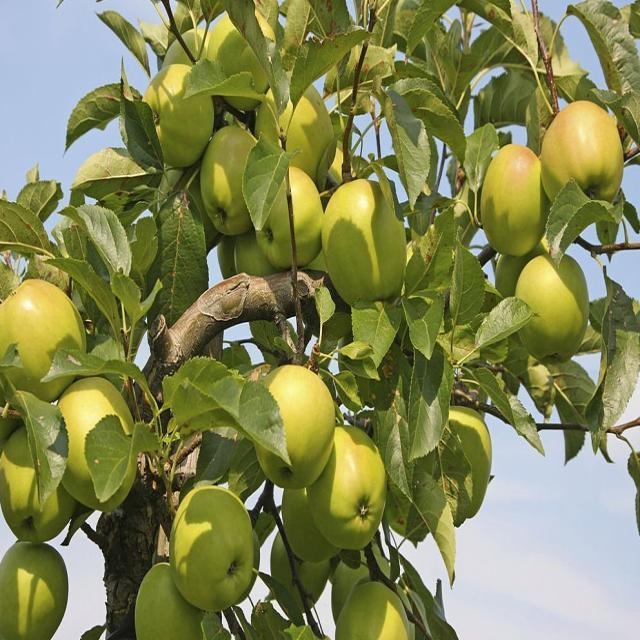Green Apple: (324, 181, 415, 300), (57, 376, 138, 509), (1, 281, 86, 404), (171, 493, 255, 609), (545, 93, 619, 224), (262, 367, 337, 495), (317, 418, 389, 543), (254, 73, 337, 180), (1, 426, 75, 544), (516, 254, 593, 361), (136, 67, 211, 171), (200, 133, 273, 230), (1, 539, 70, 640), (261, 170, 326, 271), (438, 405, 491, 524), (490, 147, 552, 248), (216, 14, 281, 102), (284, 470, 342, 560), (140, 562, 206, 640), (333, 550, 391, 622), (164, 31, 223, 101), (272, 538, 328, 602), (502, 233, 551, 301), (341, 588, 404, 640), (232, 225, 277, 288), (1, 348, 23, 461)
